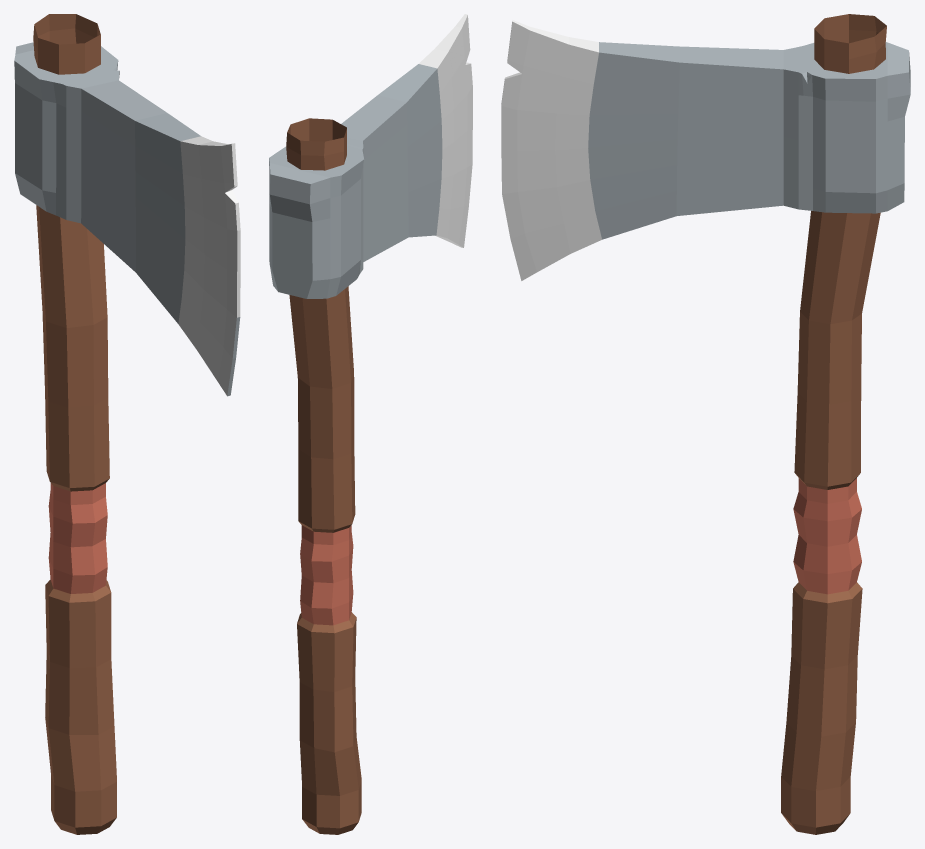
Rendered from Axe.fbx.
The picture shows the model from 3 angles, left to right: view 1: azimuth 30°, elevation 25°; view 2: azimuth 150°, elevation 25°; view 3: azimuth 270°, elevation 25°; orthographic projection. The views are drawn at different scales.
Visible parts, largest first — view 1: Окружность; view 2: Окружность; view 3: Окружность.
Boxes of the visible parts, <box> form: Окружность: <box>14,14,240,834</box>; Окружность: <box>269,14,472,834</box>; Окружность: <box>501,14,910,834</box>.
Bounding box in the file's own units: 80.2 × 752 × 347.
